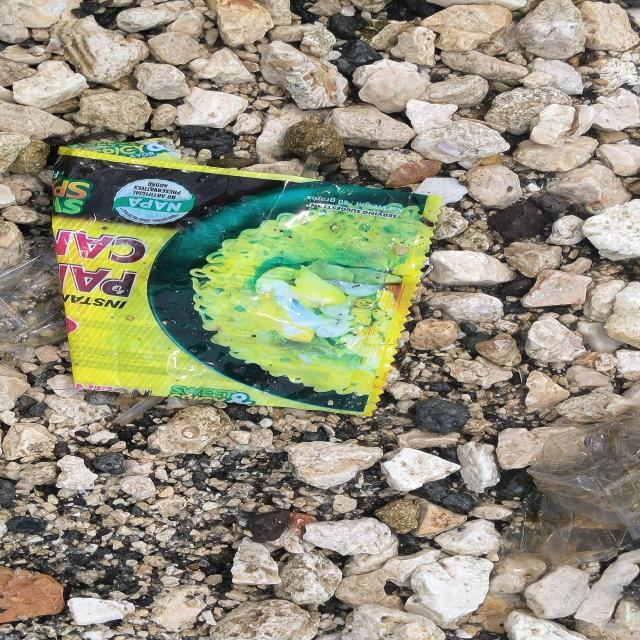plastic_waste: (50, 136, 448, 421)
